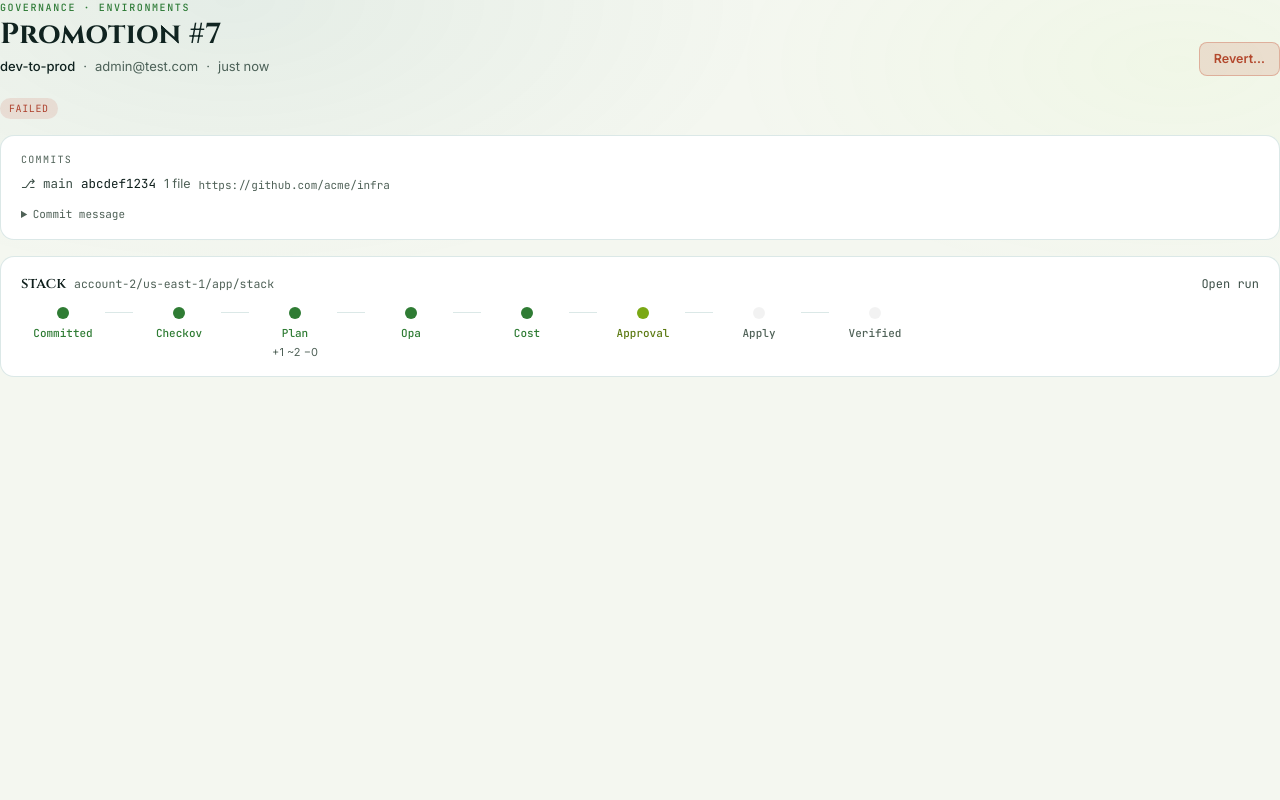
PromotionDetail › shows the revert API error inline
Click the button "Revert…": point(1239, 59) left=1199, top=42, right=1279, bottom=76
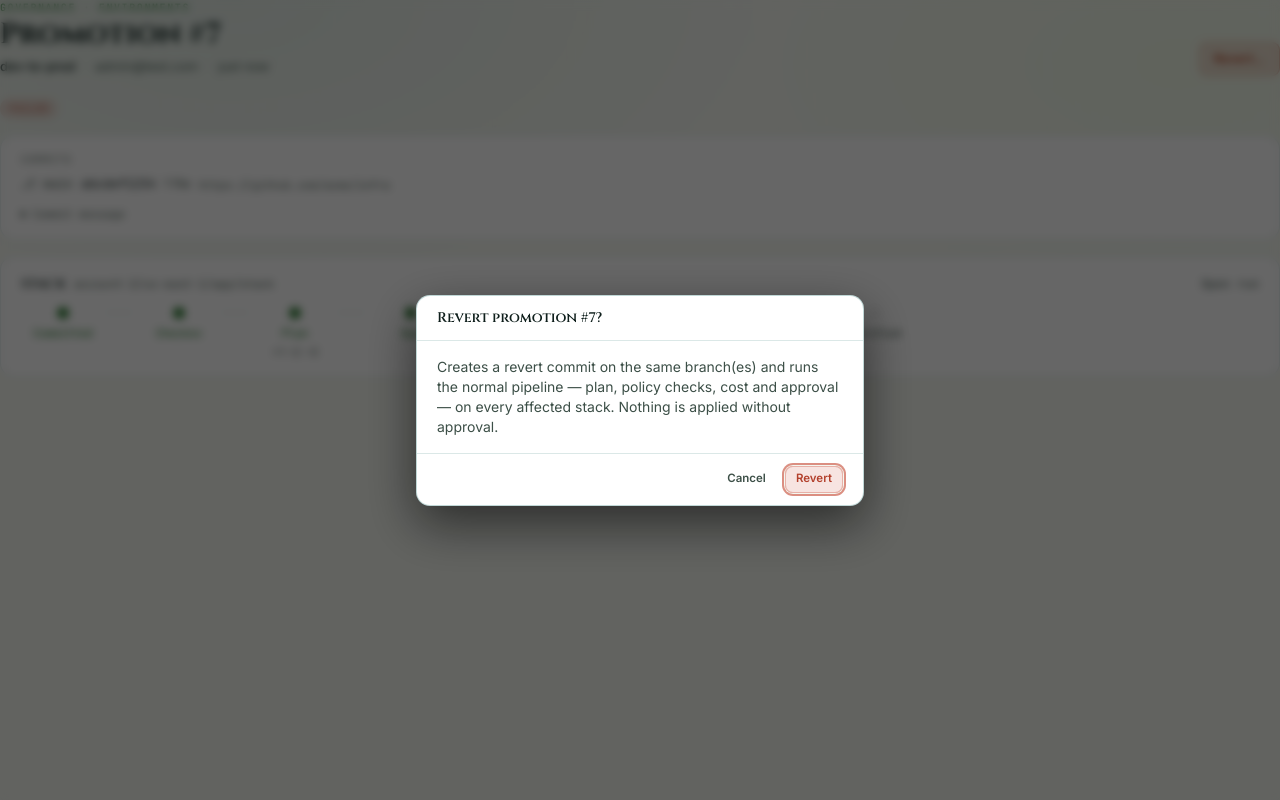
Click the button "Revert": point(814, 479) left=785, top=466, right=843, bottom=492
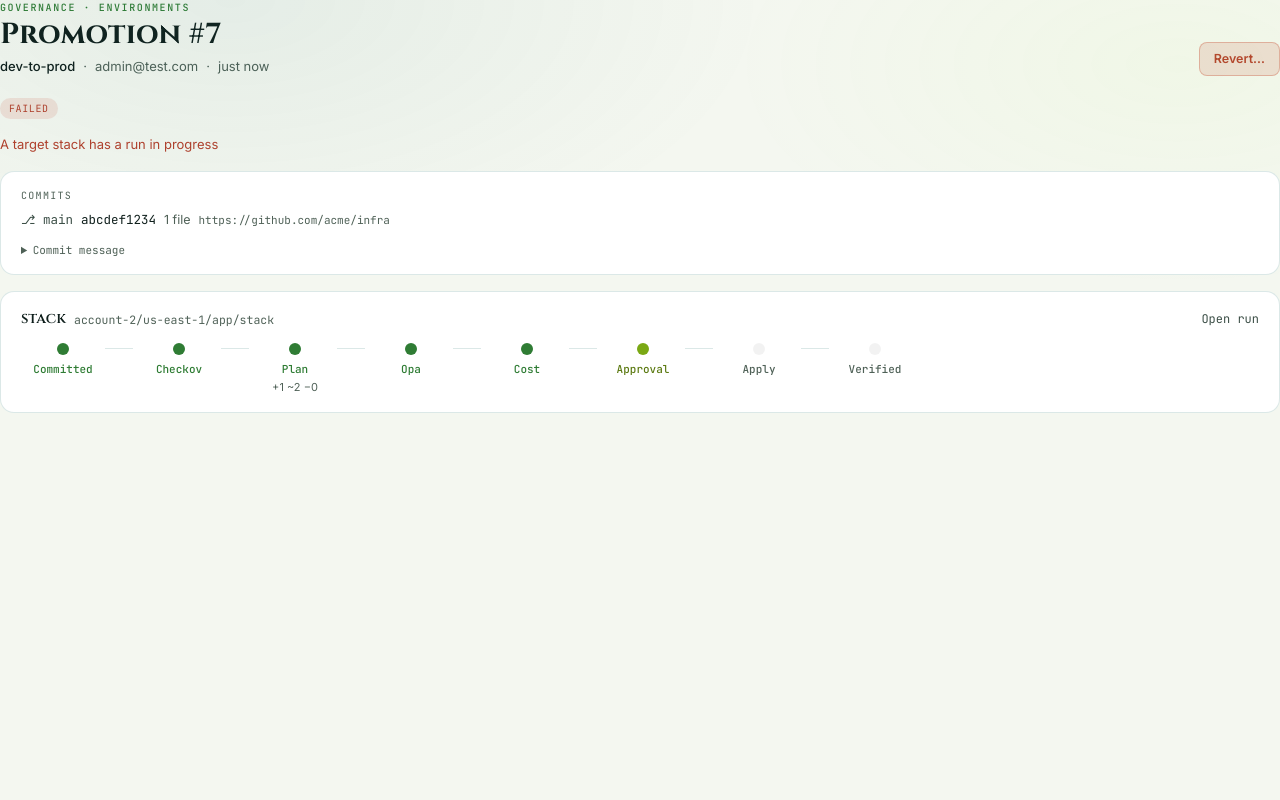
Result: the message reads "A target stack has a run in progress" at left=0, top=136, right=218, bottom=152
